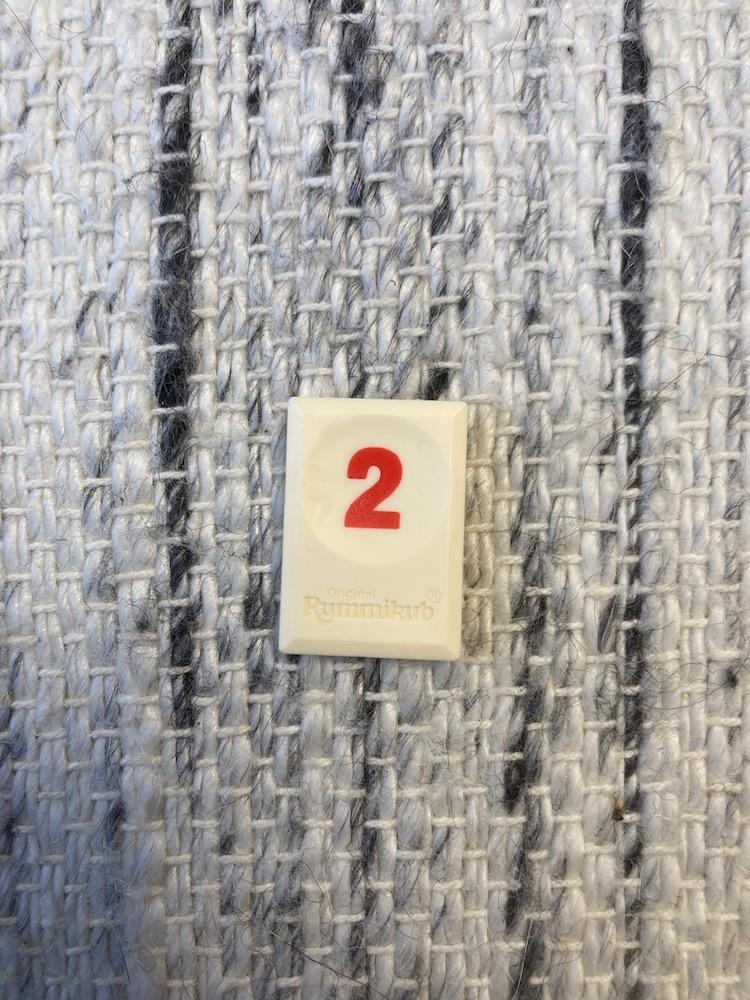red_2: (279, 398, 467, 660)
